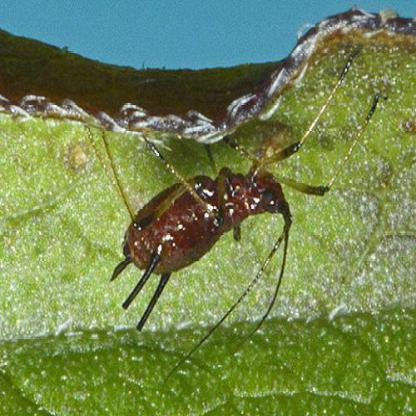uroleucon compositae: (112, 45, 360, 332)
